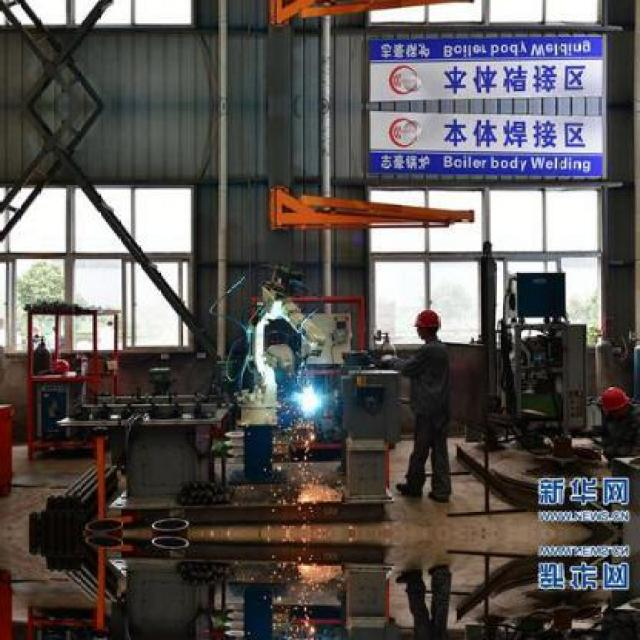Helmet: (598, 381, 634, 426), (411, 306, 442, 342)
